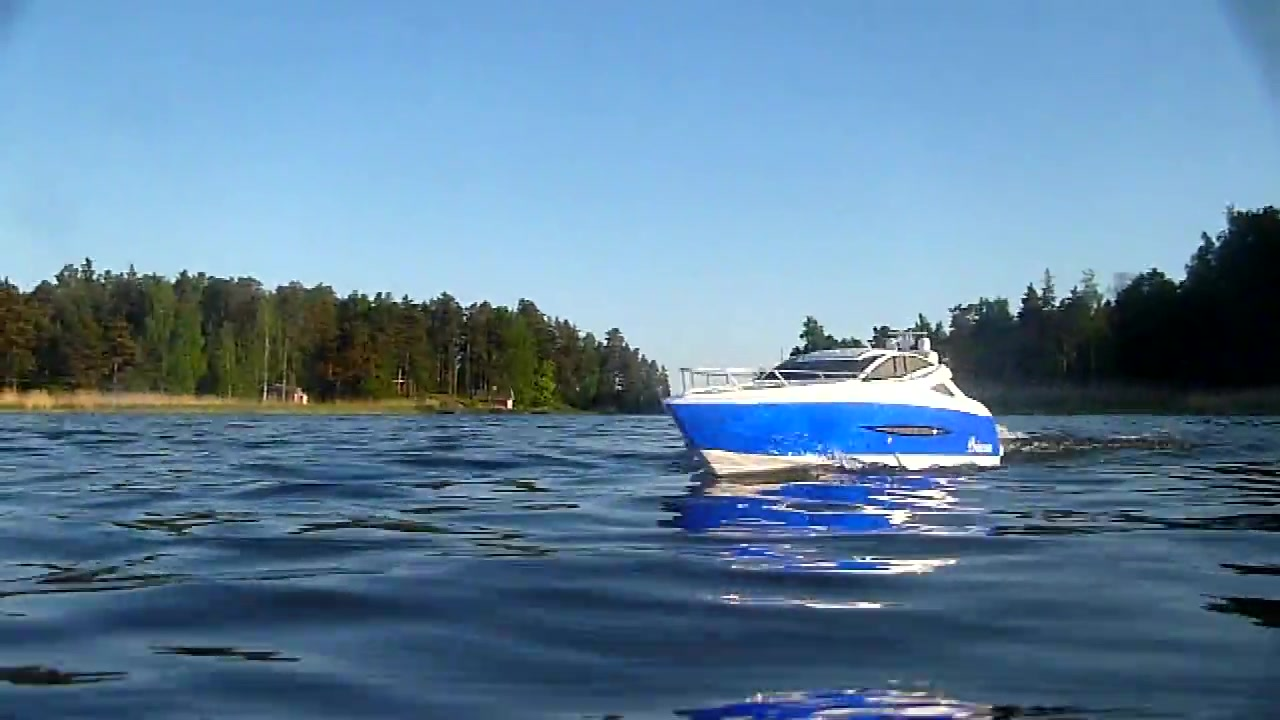boat: (662, 329, 1011, 484)
